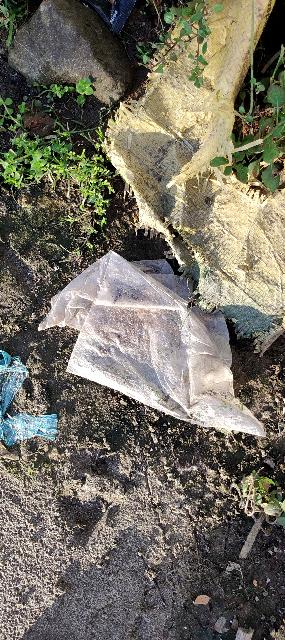polythene: (27, 234, 285, 478)
